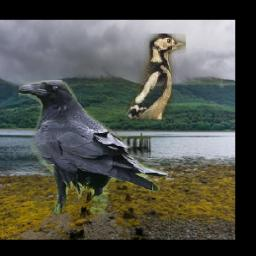Crow: (19, 80, 169, 214)
Woodpecker: (127, 34, 186, 119)
